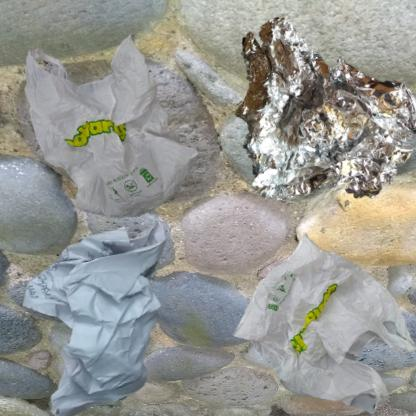aluminio: (213, 10, 416, 230)
bolsa: (10, 10, 228, 259), (213, 213, 416, 416)
papel: (10, 213, 206, 416)
